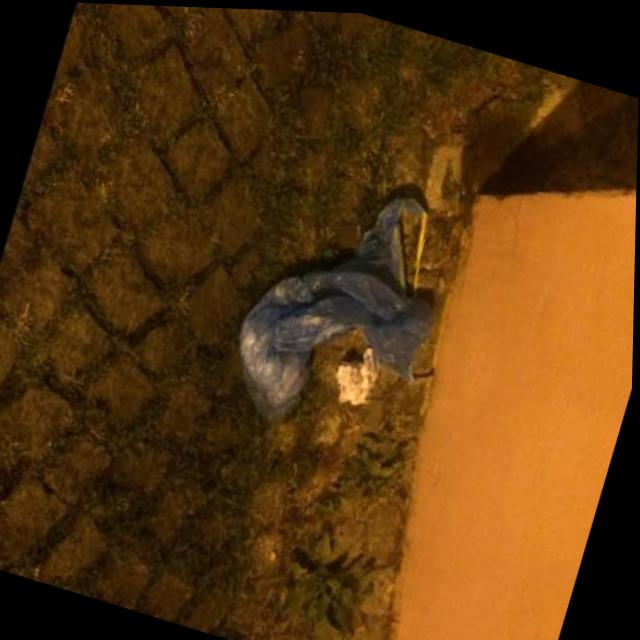paper: (327, 339, 383, 412)
plastic: (215, 158, 463, 462)
